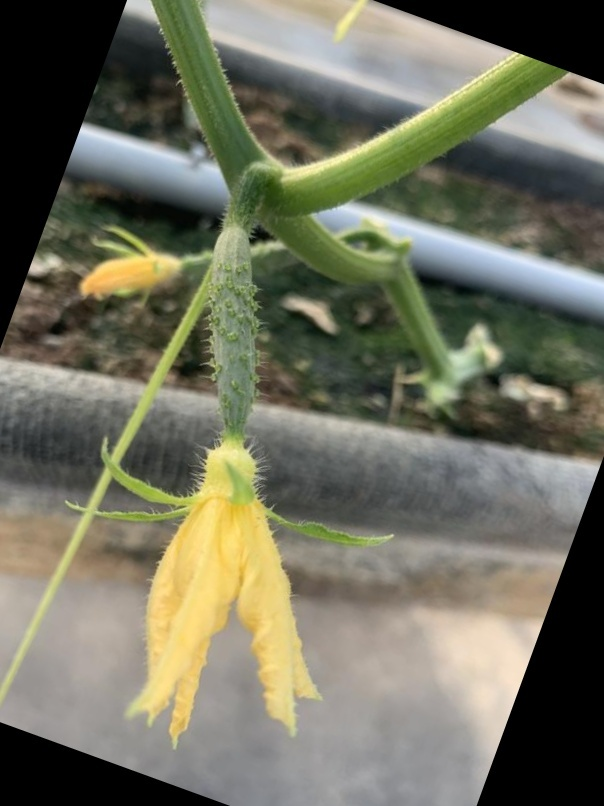bear: (132, 228, 315, 727)
